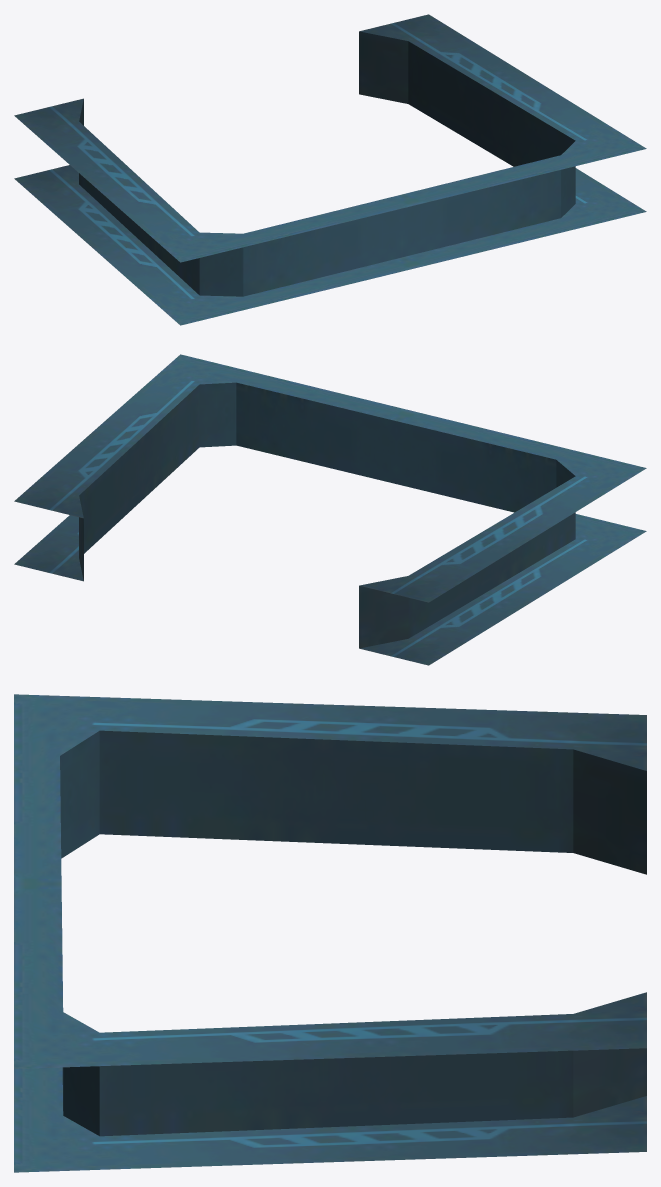
The model's file is partition_door_06_0_ddda552a__ZombiesII_laboratory_06_d_24666406_c1f257.obj.
The picture shows the model from 3 angles, top to bottom: view 1: azimuth 30°, elevation 25°; view 2: azimuth 150°, elevation 25°; view 3: azimuth 270°, elevation 25°; orthographic projection. The views are drawn at different scales.
Size of the model in its own units: 11.62 by 1.5 by 8.29.
1 material, 1 textured.
